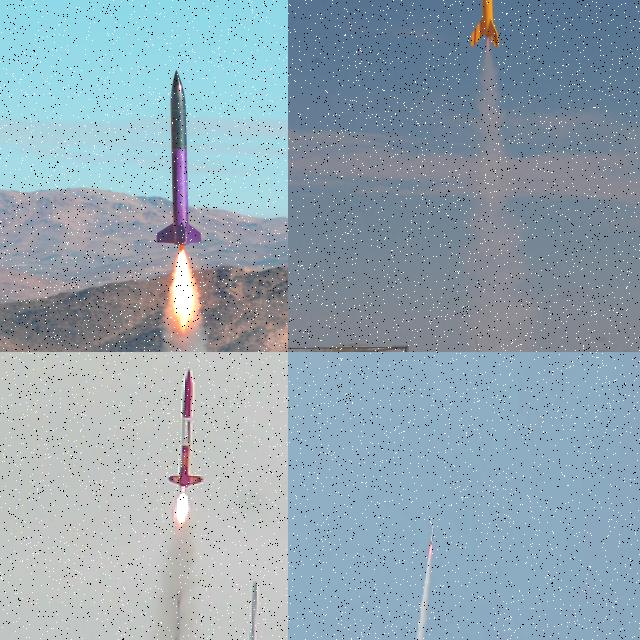Rocket: (154, 69, 203, 247), (166, 366, 204, 489), (470, 0, 499, 48), (430, 525, 434, 546)
